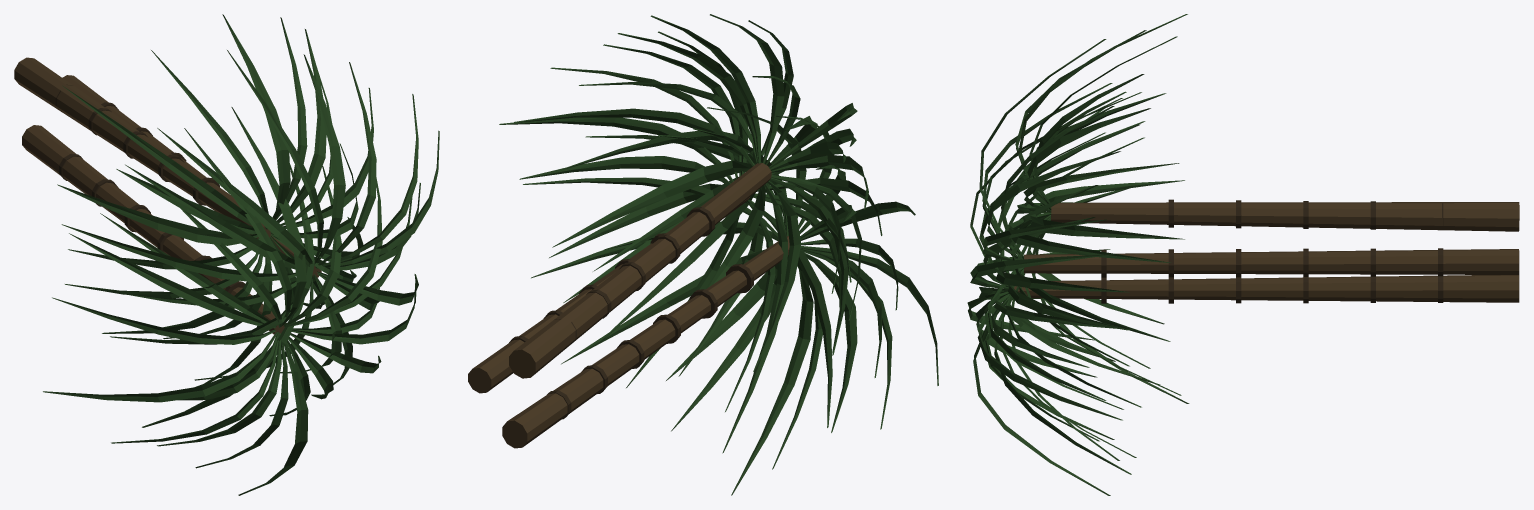
File: VD_Dracaena_C.obj
3 views of the same model, side by side, from view 1: azimuth 30°, elevation 25°; view 2: azimuth 150°, elevation 25°; view 3: azimuth 270°, elevation 25° (orthographic). The views are drawn at different scales.
Parts seen in each view (by area): view 1: VD_Dracaena_C; view 2: VD_Dracaena_C; view 3: VD_Dracaena_C.
Part boxes in pixels (x1=…): VD_Dracaena_C: x1=14, y1=14, x2=439, y2=495; VD_Dracaena_C: x1=468, y1=14, x2=938, y2=495; VD_Dracaena_C: x1=967, y1=14, x2=1519, y2=495.
Bounding box in the file's own units: 167 × 184 × 197.
